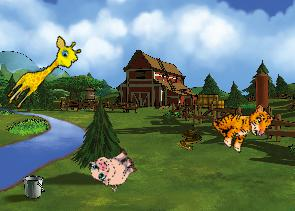giraffe: (2, 31, 85, 118)
pig: (85, 141, 141, 195)
tiger: (207, 89, 277, 159)
